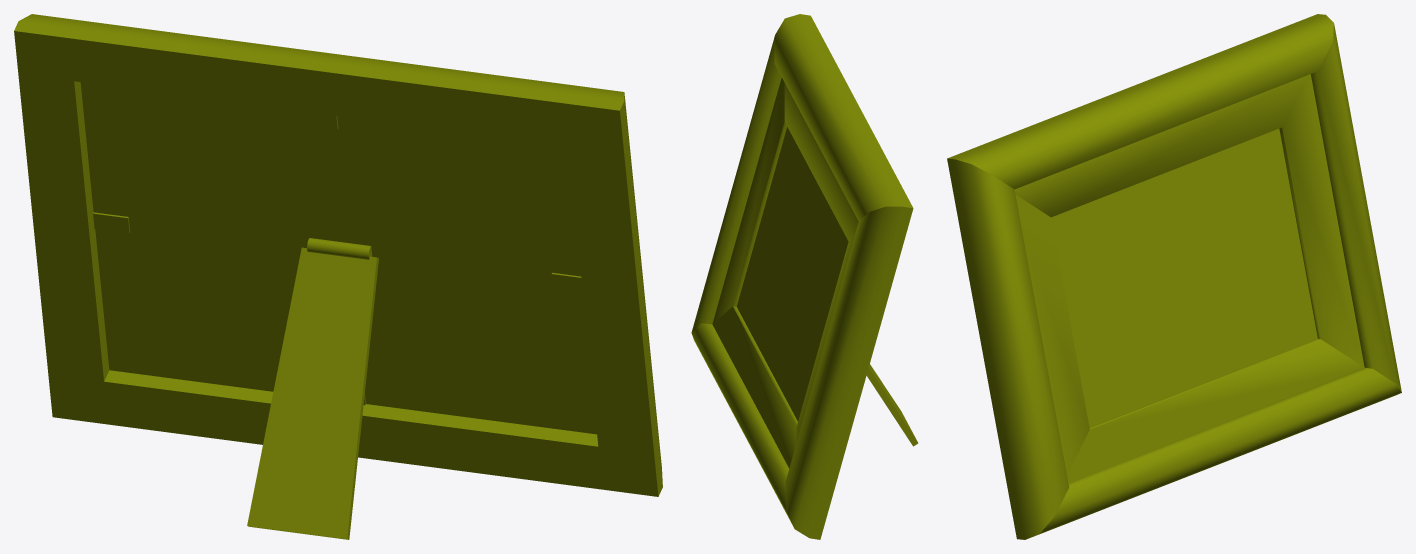
The model's file is PictureFrame.fbx.
The picture shows the model from 3 angles, left to right: view 1: azimuth 30°, elevation 25°; view 2: azimuth 150°, elevation 25°; view 3: azimuth 270°, elevation 25°; orthographic projection. The views are drawn at different scales.
Visible parts, largest first — view 1: Frame_Main, Frame_Holder, Frame_Detail_01; view 2: Frame_Main, Frame_Holder; view 3: Frame_Main.
Part boxes in pixels (x1=…): Frame_Main: x1=14, y1=14, x2=662, y2=496; Frame_Holder: x1=247, y1=247, x2=378, y2=539; Frame_Detail_01: x1=307, y1=238, x2=372, y2=259; Frame_Main: x1=691, y1=14, x2=913, y2=539; Frame_Holder: x1=866, y1=364, x2=918, y2=446; Frame_Main: x1=947, y1=14, x2=1401, y2=539.
Size of the model in its own units: 93.4 by 83.48 by 97.92.
